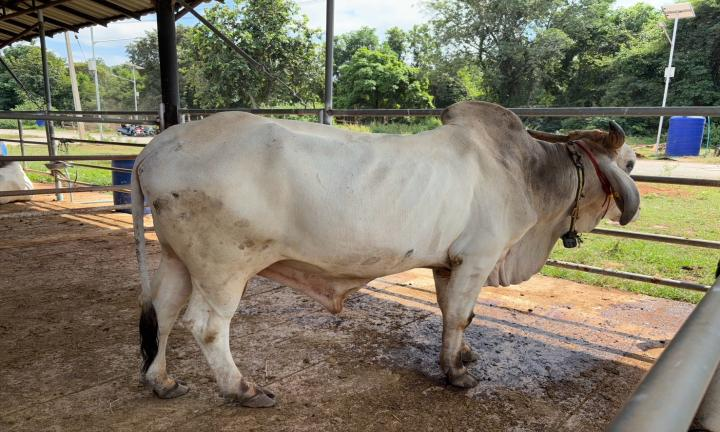Brahman: (132, 101, 639, 406)
